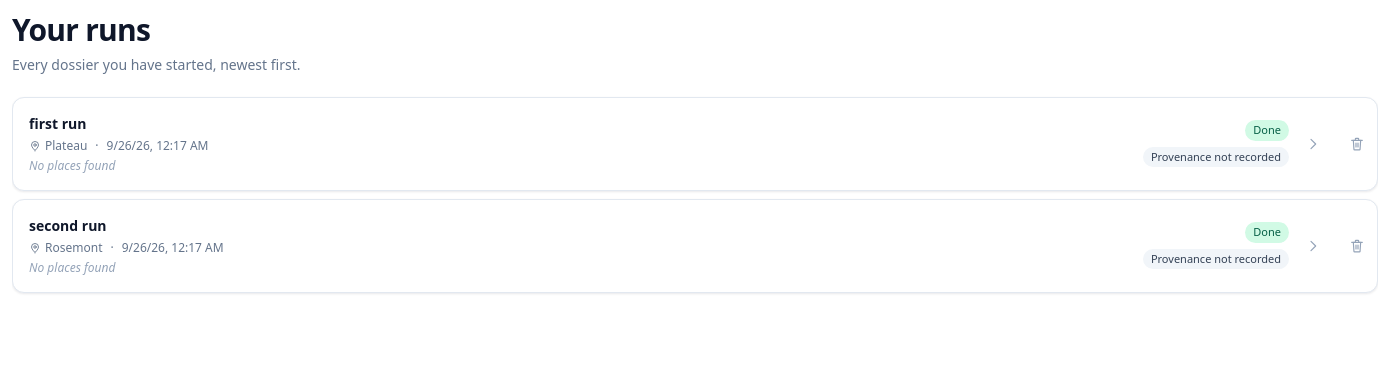
Scenario: <JobHistory /> deleting a run › only ever arms one row at a time
Expected: the text "first run" is shown, [29, 114, 86, 133]
Step 1. Click the button named "Delete this run" in the row of "Plateau" → (1357,144), box [1337, 98, 1377, 190]
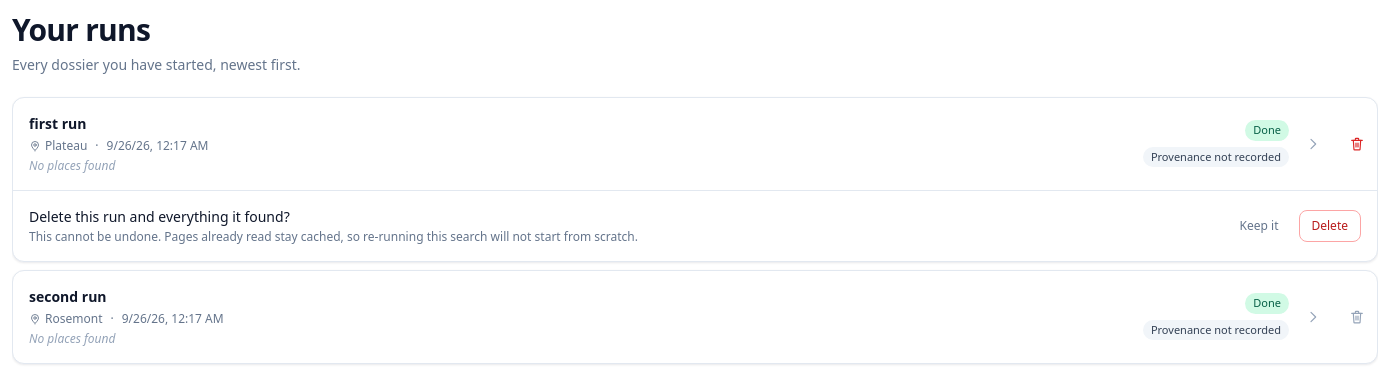
Step 2. Click the button named "Delete this run" in the row of "second run" → (1357,317), box [1337, 271, 1377, 363]
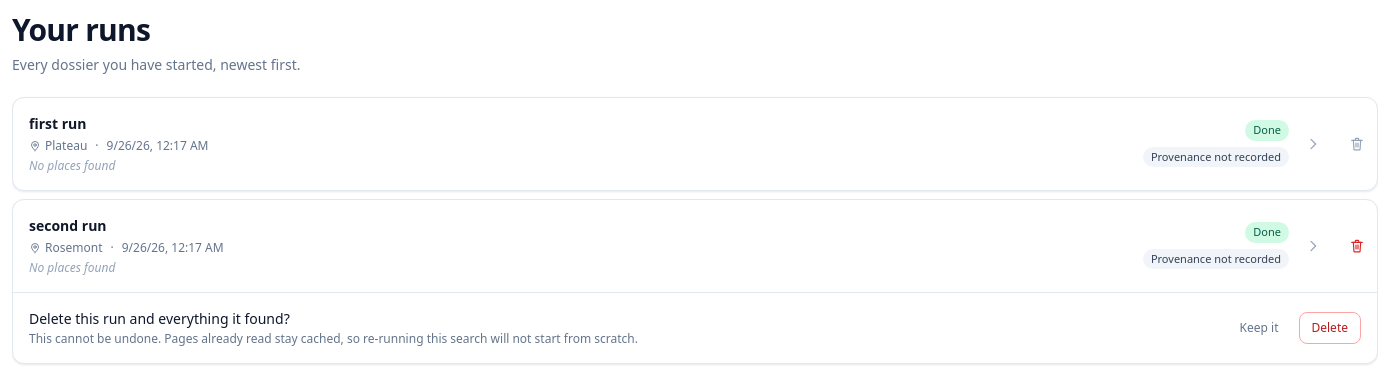
Result: the text "Delete this run and everything it found?" is shown once at [29, 309, 290, 328]
Result: the button named "Delete this run" in the row of "Plateau" is collapsed at [1337, 98, 1377, 190]
Result: the button named "Delete this run" in the row of "second run" is expanded at [1337, 200, 1377, 292]
